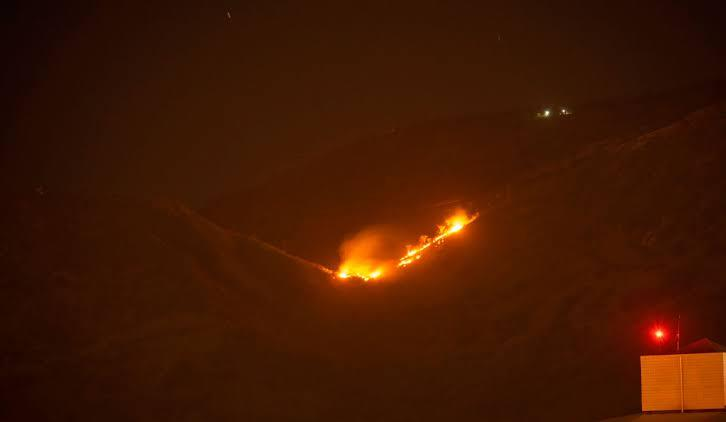fire: (333, 262, 384, 283), (443, 211, 470, 243)
